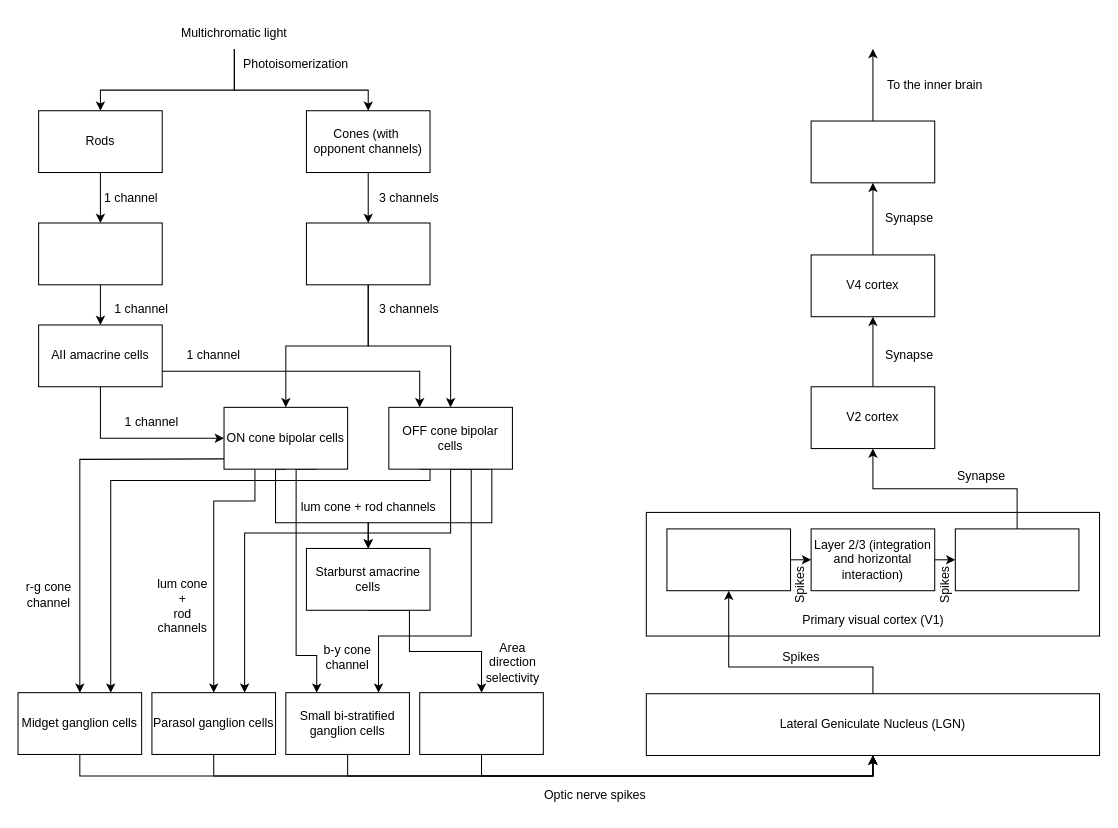
This 1118x828 diagram has some shape labels left out. Here are the shapes that lost their labels. From the top down, the centre of each, then its label:
At point 872,151: "Inferotemporal cortex (IT)".
At point 100,253: "ON rod bipolar cells".
At point 367,253: "Horizontal cells".
At point 728,559: "Layer 4 (input)".
At point 1016,559: "Layer 5/6 (output and feedback)".
At point 481,723: "Direction selective ganglion cells".
